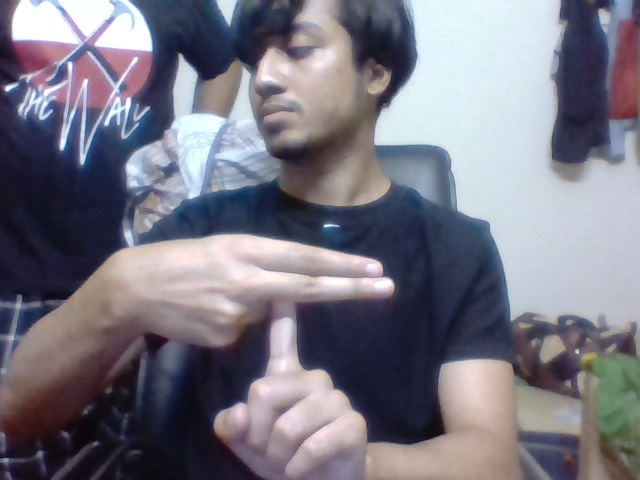F: (264, 231, 399, 375)
